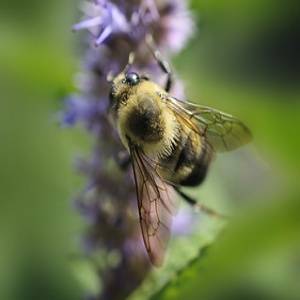bee: (110, 72, 255, 267)
